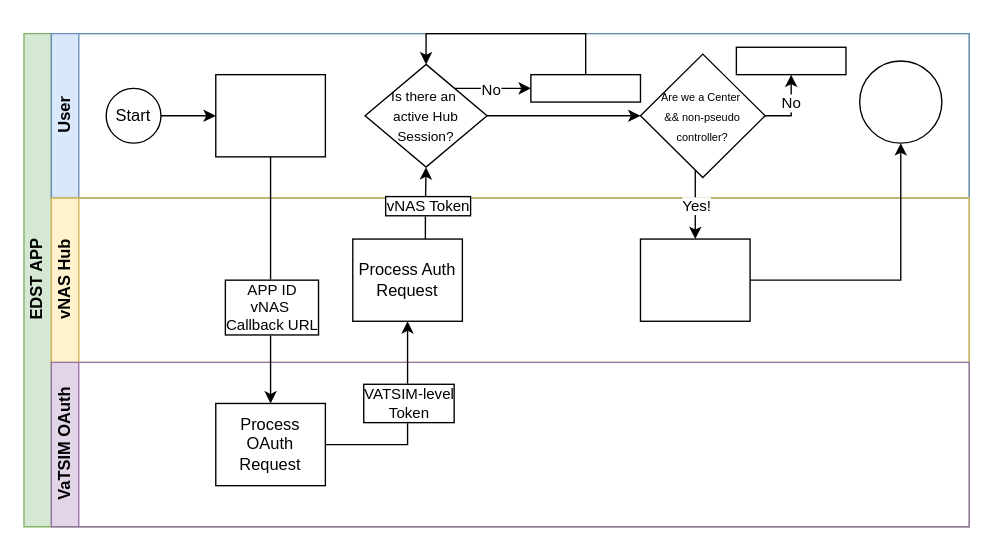
The diagram is 993 pixels wide and 551 high, and some of its shapes have lost their labels. Here are the shapes that lost their labels. From the top down, the centre of each, then its label:
At point (790, 60): "Error and Logout".
At point (585, 87): "Wait for Session".
At point (900, 101): "Route to App".
At point (269, 115): "Select Environment & Login".
At point (694, 279): "ConnectHub".
